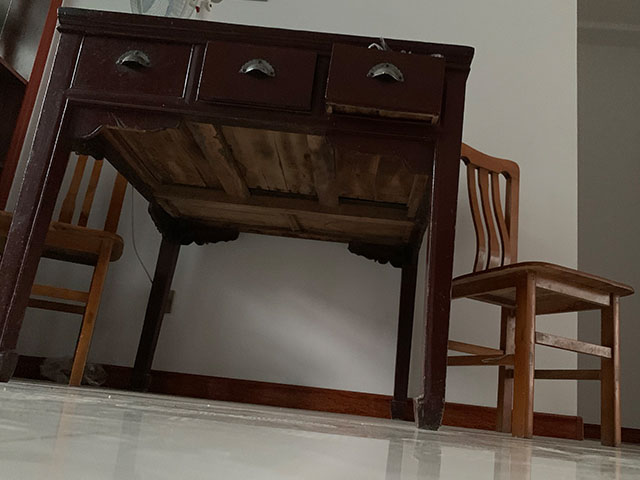stool: (421, 143, 637, 448), (1, 152, 129, 389)
table: (1, 5, 476, 433)
